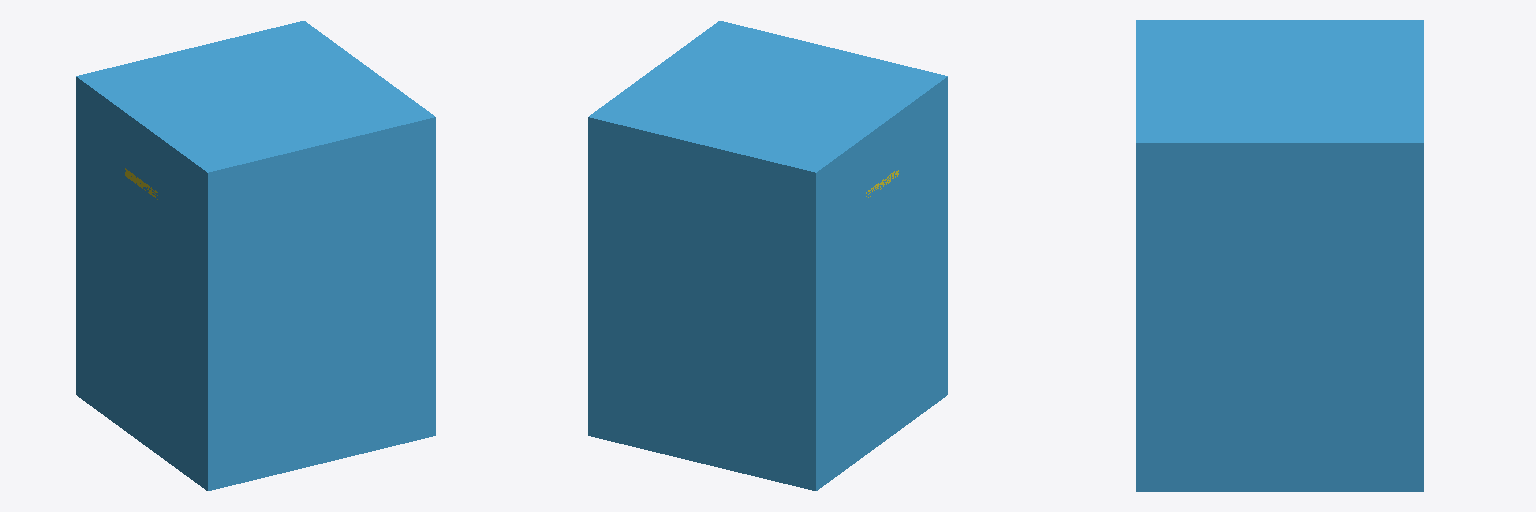
URDF robot description (drawer_cabinet):
<?xml version="1.0"?>
<!-- A cabinet with one drawer and its handle, named as coraplex's apartment names them,
     so CRAM's world reasoner infers a cabinet, a drawer and a handle. -->
<robot name="drawer_cabinet">
  <link name="world_root"/>
  <link name="cabinet1">
    <visual><geometry><box size="0.6 0.6 0.8"/></geometry></visual>
    <collision><geometry><box size="0.6 0.6 0.8"/></geometry></collision>
  </link>
  <link name="cabinet1_drawer_top">
    <visual><geometry><box size="0.55 0.55 0.2"/></geometry></visual>
    <collision><geometry><box size="0.55 0.55 0.2"/></geometry></collision>
  </link>
  <link name="handle_cab1_drawer_top">
    <visual><geometry><box size="0.02 0.15 0.02"/></geometry></visual>
    <collision><geometry><box size="0.02 0.15 0.02"/></geometry></collision>
  </link>
  <joint name="cabinet1_joint" type="fixed">
    <parent link="world_root"/>
    <child link="cabinet1"/>
    <origin xyz="1 0 0.4"/>
  </joint>
  <joint name="cabinet1_drawer_top_joint" type="prismatic">
    <parent link="cabinet1"/>
    <child link="cabinet1_drawer_top"/>
    <origin xyz="0 0 0.25"/>
    <axis xyz="-1 0 0"/>
    <limit lower="0" upper="0.4" effort="10" velocity="1"/>
  </joint>
  <joint name="handle_cab1_drawer_top_joint" type="fixed">
    <parent link="cabinet1_drawer_top"/>
    <child link="handle_cab1_drawer_top"/>
    <origin xyz="-0.29 0 0"/>
  </joint>
</robot>

--- Facts derived from the render (not from the file) ---
3 views of the same robot in one strip: view 1: azimuth 30°, elevation 25°; view 2: azimuth 150°, elevation 25°; view 3: azimuth 270°, elevation 25° (orthographic).
Model drawer_cabinet with 4 links and 3 joints (1 prismatic, 2 fixed), rooted at world_root, posed all joints at 0.
Visible links, largest first — view 1: cabinet1; view 2: cabinet1; view 3: cabinet1.
Link boxes in pixels (bbox=[...]): cabinet1: bbox=[76, 21, 435, 490]; cabinet1: bbox=[588, 21, 947, 490]; cabinet1: bbox=[1136, 20, 1423, 491].
Bounding box of the posed robot: 0.6 × 0.6 × 0.8 m (x, y, z).
Geometry: primitives only (box / cylinder / sphere), no mesh files.
